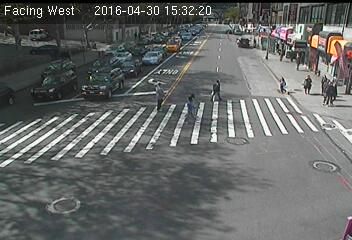neg: (52, 190, 75, 220), (180, 165, 201, 192), (326, 119, 345, 144), (315, 29, 332, 52), (76, 24, 90, 43), (316, 154, 329, 171), (164, 34, 177, 50), (237, 30, 249, 47)
pos: (146, 78, 172, 113), (206, 76, 227, 104), (182, 93, 202, 120), (298, 71, 317, 95), (275, 73, 292, 95)
